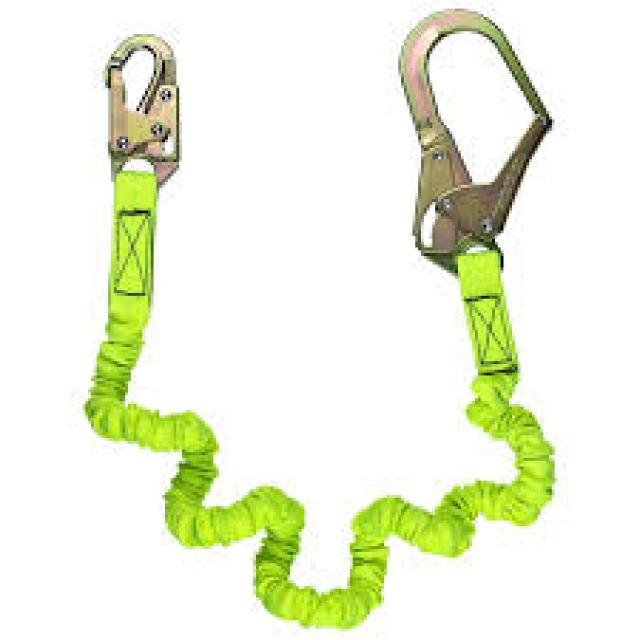harness: (88, 8, 561, 624)
